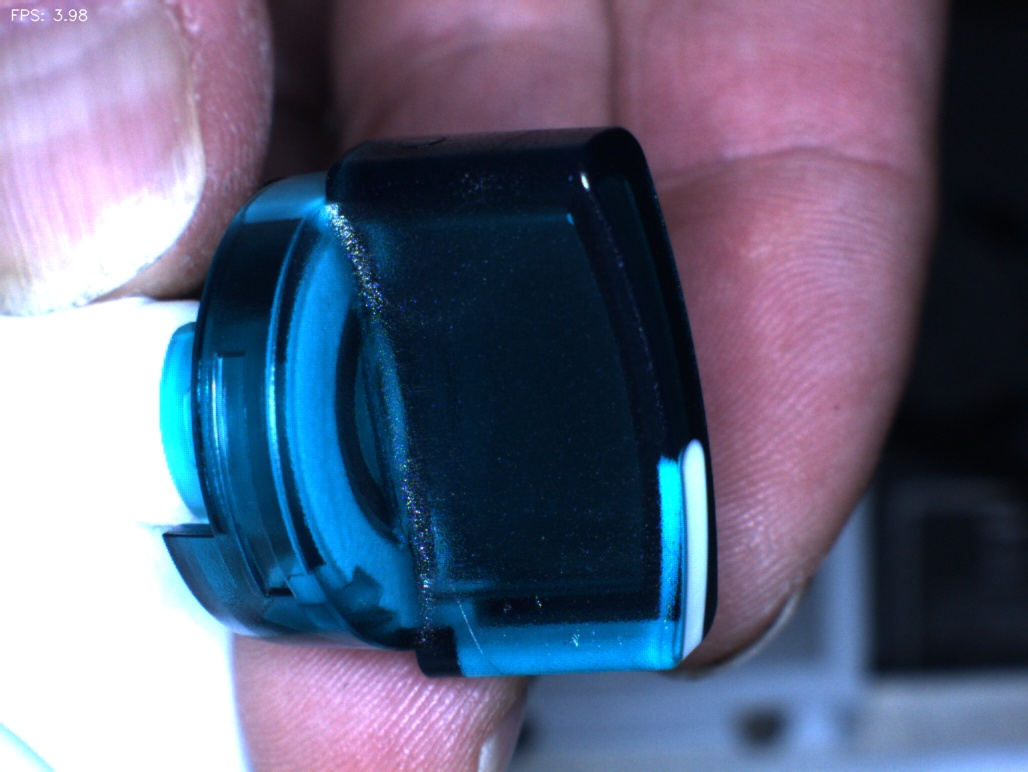Givrage: (505, 560, 616, 664)
